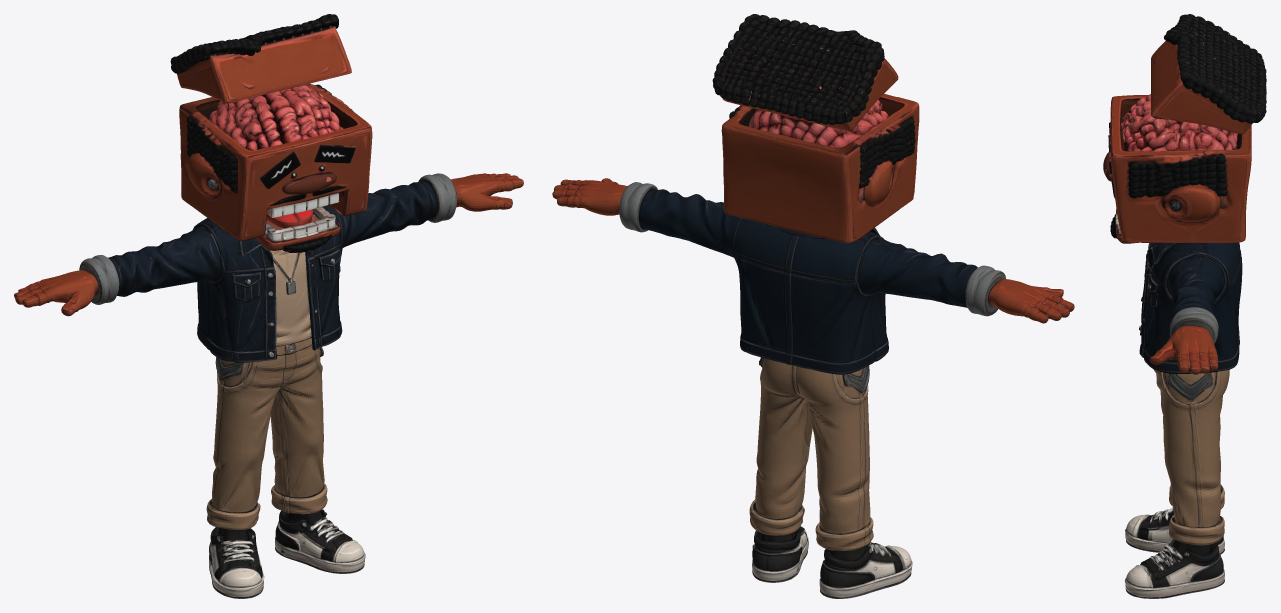
The model's file is man.glb.
3 views of the same model, side by side, from view 1: azimuth 30°, elevation 25°; view 2: azimuth 150°, elevation 25°; view 3: azimuth 270°, elevation 25° (orthographic). The views are drawn at different scales.
Parts seen in each view (by area): view 1: temp; view 2: temp; view 3: temp.
Boxes of the visible parts, <box> form: temp: <box>14,14,523,598</box>; temp: <box>552,14,1074,598</box>; temp: <box>1103,14,1266,598</box>.
Size of what is drawn, in the model's own units: 19.58 by 19.93 by 5.64.
Materials: 1 (1 with a texture image).
